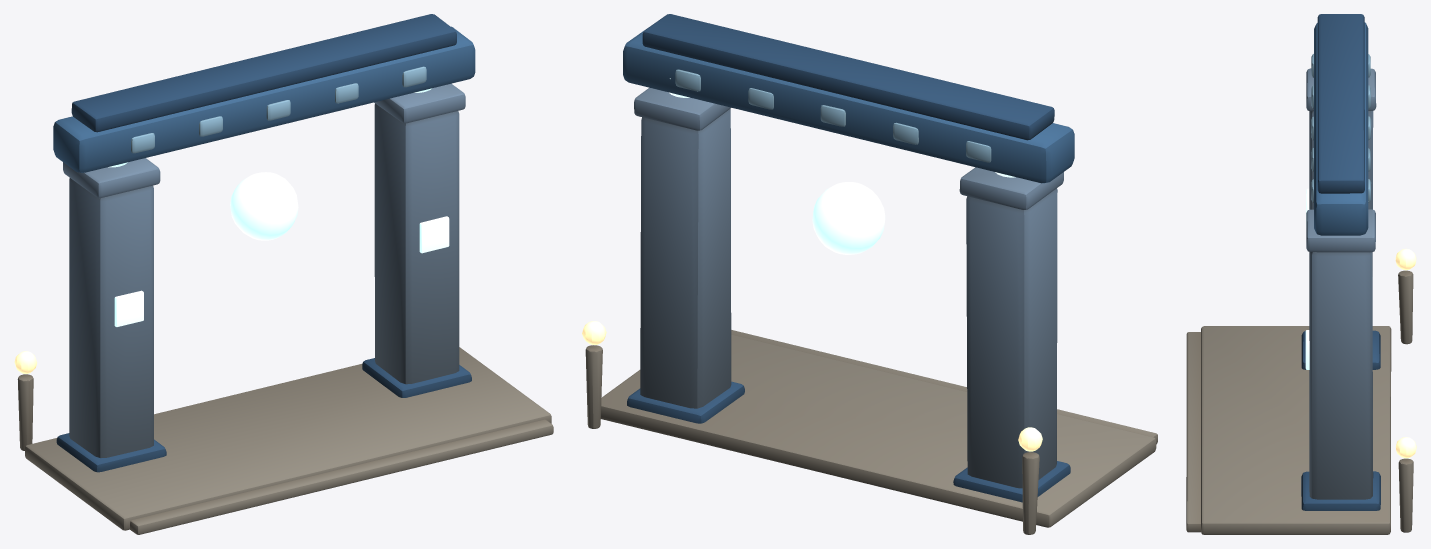
3 views of the same model, side by side, from view 1: azimuth 30°, elevation 25°; view 2: azimuth 150°, elevation 25°; view 3: azimuth 270°, elevation 25° (orthographic). The views are drawn at different scales.
Visible parts, largest first — view 1: gate_80a4ed8d; view 2: gate_80a4ed8d; view 3: gate_80a4ed8d.
Boxes of the visible parts, left/top/right/bottom form: gate_80a4ed8d: left=14, top=14, right=553, bottom=534; gate_80a4ed8d: left=582, top=14, right=1157, bottom=534; gate_80a4ed8d: left=1186, top=14, right=1416, bottom=534.
Size of the model in its own units: 5.19 by 4.17 by 2.55.
